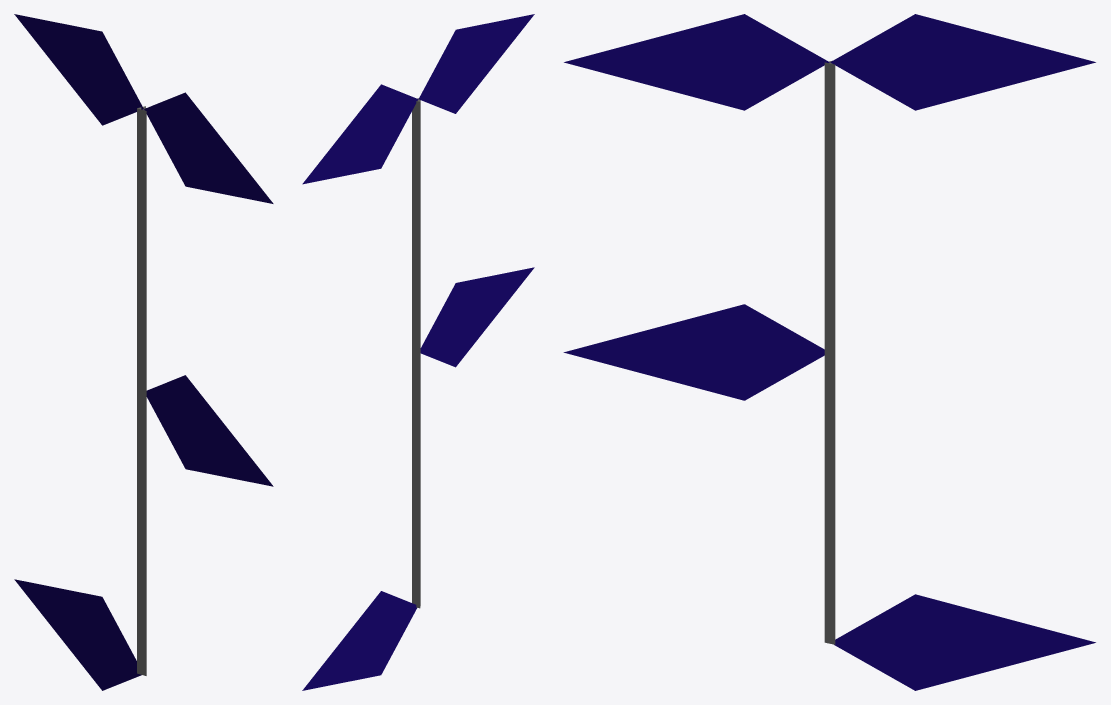
The model's file is Vine 2.obj.
3 views of the same model, side by side, from view 1: azimuth 30°, elevation 25°; view 2: azimuth 150°, elevation 25°; view 3: azimuth 270°, elevation 25° (orthographic). The views are drawn at different scales.
Parts seen in each view (by area): view 1: plant; view 2: plant; view 3: plant.
Boxes of the visible parts, x1,y1,x2,y2 form: plant: (14,14,273,690); plant: (302,14,534,690); plant: (563,14,1095,690).
Size of the model in its own units: 0.1 by 7 by 5.
